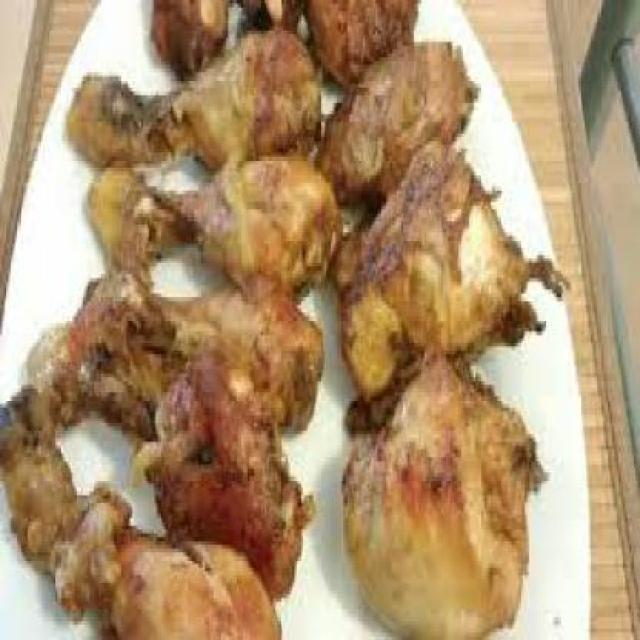Wet Waste: (33, 320, 310, 594), (0, 389, 286, 637), (337, 358, 545, 637), (343, 152, 563, 408), (66, 34, 322, 191), (75, 286, 318, 419), (90, 160, 336, 282), (312, 46, 486, 183), (309, 0, 426, 85)
